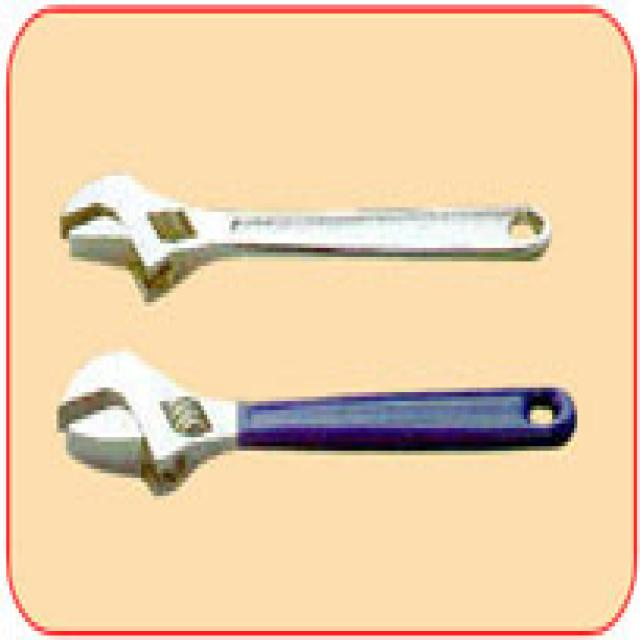wrench: (46, 328, 638, 530), (50, 130, 548, 306)
